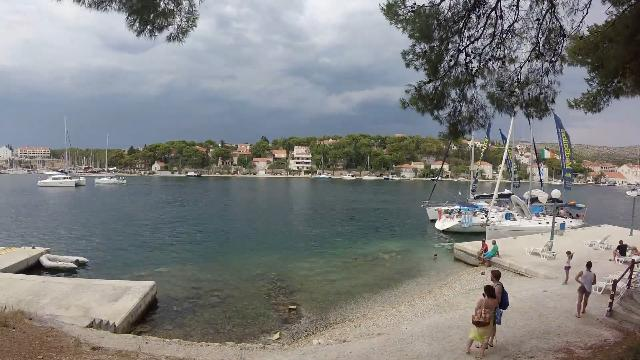Freighter: (70, 161, 124, 179)
Sailboat: (32, 168, 92, 192), (92, 169, 130, 189)
